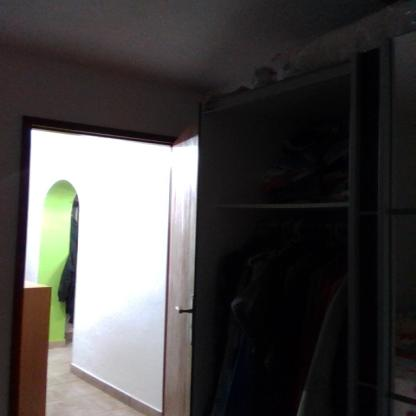open: (13, 112, 214, 412)
